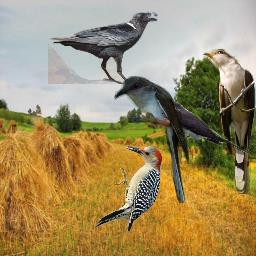Crow: (48, 10, 158, 84)
Cuckoo: (114, 76, 191, 203), (202, 49, 256, 194), (160, 102, 249, 155)
Woodpecker: (92, 142, 171, 231)
